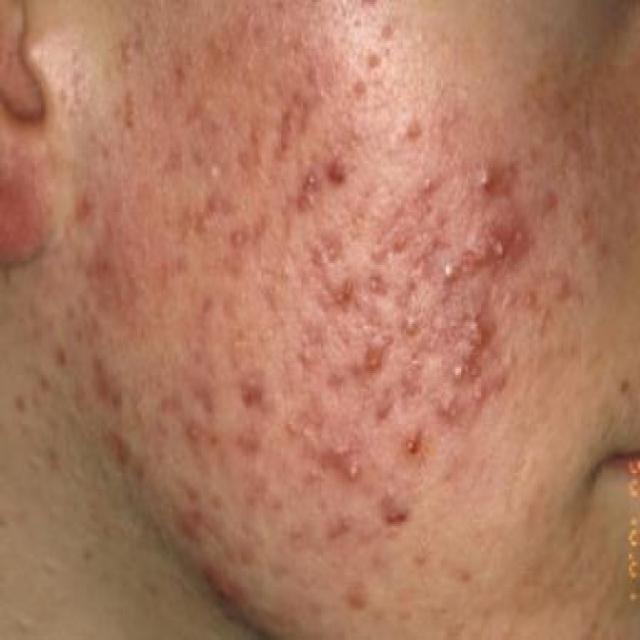Acne: (317, 140, 357, 199), (234, 363, 271, 420), (463, 230, 512, 267), (328, 451, 375, 489), (376, 486, 413, 534), (440, 354, 478, 398), (288, 167, 322, 215), (395, 423, 427, 473), (458, 316, 498, 353), (394, 304, 428, 346), (469, 165, 502, 198), (432, 257, 466, 289), (355, 346, 387, 380), (414, 167, 443, 200), (331, 272, 357, 308)
Whiteheads: (399, 105, 435, 150), (347, 70, 378, 110), (291, 340, 323, 376), (200, 151, 229, 189), (227, 224, 254, 260), (361, 41, 388, 76)
